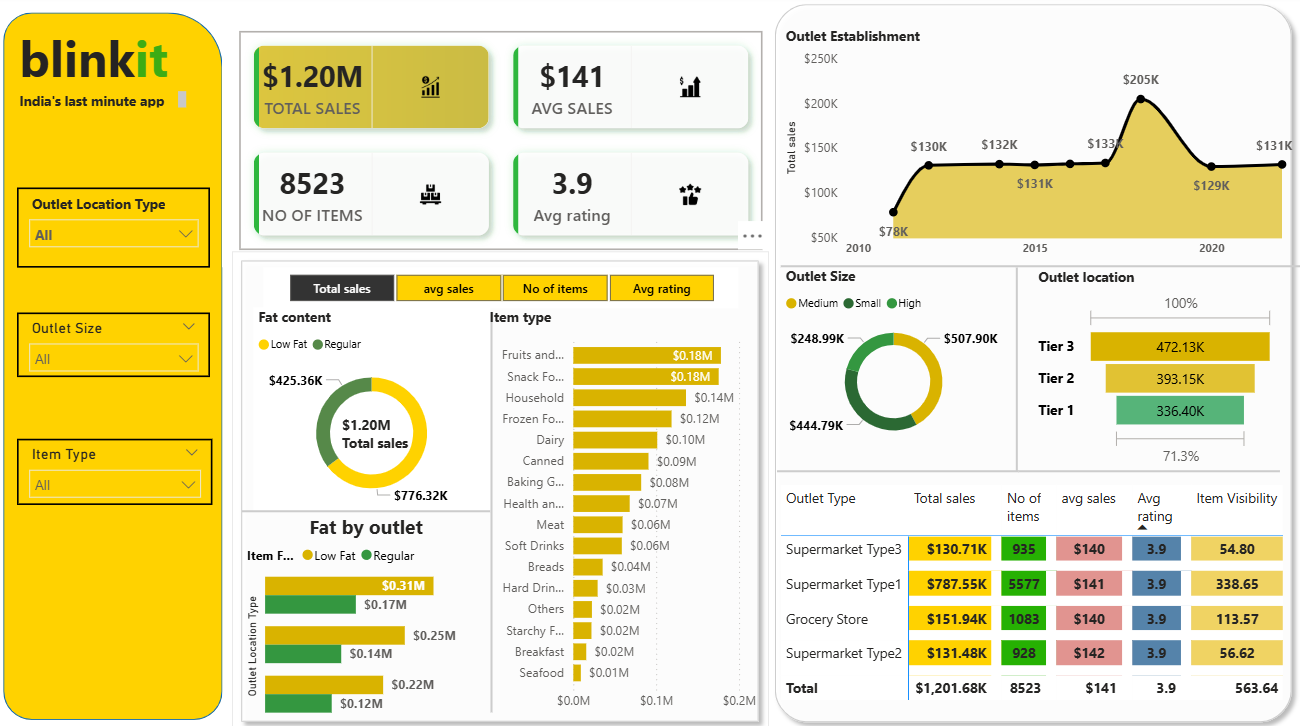

The dashboard page shown, as its layout file describes it:
{"tool":"powerbi","page":{"name":"Page 1","canvas":[1280,720],"ordinal":0},"visuals":[{"type":"shape","box":[10.8,17.5,214.5,692.1],"z":0},{"type":"textbox","box":[22,23.3,164.7,78.2],"z":1000},{"type":"textbox","box":[22,89.2,172.9,26.1],"z":2000},{"type":"cardVisual","fields":{"Data":["BlinkIT Grocery Data.Total sales","BlinkIT Grocery Data.avg sales","BlinkIT Grocery Data.No of items","BlinkIT Grocery Data.Avg rating"]},"box":[225,17.8,546.1,248.4],"z":3000},{"type":"shape","box":[234.6,251.1,524.2,469.3],"z":4000},{"type":"donutChart","title":"Fat content","fields":{"Y":["BlinkIT Grocery Data.Total sales"],"Category":["BlinkIT Grocery Data.Item Fat Content"]},"box":[255.2,306,231.9,200.3],"z":5000},{"type":"slicer","fields":{"Values":["Metrics.Metrics"]},"box":[264.8,266.2,465.2,39.8],"z":6000},{"type":"textbox","box":[337.3,406.1,87.7,49.9],"z":7000},{"type":"clusteredBarChart","title":"Fat by outlet","fields":{"Y":["BlinkIT Grocery Data.Total sales"],"Category":["BlinkIT Grocery Data.Outlet Location Type"],"Series":["BlinkIT Grocery Data.Item Fat Content"]},"box":[244.2,507.3,242.8,202.4],"z":8000},{"type":"shape","box":[244.2,485.7,242.8,39.1],"z":9000},{"type":"shape","box":[480.3,310.3,16.2,391.2],"z":10000},{"type":"barChart","title":"Item type","fields":{"Y":["BlinkIT Grocery Data.Total sales"],"Category":["BlinkIT Grocery Data.Item Type"]},"box":[487,306.2,284.7,403.4],"z":11000},{"type":"shape","box":[756.8,0,523.4,720.4],"z":12000},{"type":"lineChart","title":"Outlet Establishment","fields":{"Y":["BlinkIT Grocery Data.Total sales"],"Category":["BlinkIT Grocery Data.Outlet Establishment Year"]},"box":[771.7,31,508.6,234.7],"z":13000},{"type":"shape","box":[771.7,245.5,508.6,39.1],"z":14000},{"type":"donutChart","title":"Outlet Size","fields":{"Category":["BlinkIT Grocery Data.Outlet Size"],"Y":["BlinkIT Grocery Data.Total sales"]},"box":[771.7,265.8,221.2,180.8],"z":15000},{"type":"shape","box":[767.6,446.5,236.1,39.1],"z":16000},{"type":"shape","box":[978.1,267.1,48.6,199.7],"z":17000},{"type":"funnel","title":"Outlet location","fields":{"Category":["BlinkIT Grocery Data.Outlet Location Type"],"Y":["Sum(BlinkIT Grocery Data.Sales)"]},"box":[1018.6,267.1,241.5,199.7],"z":18000},{"type":"pivotTable","fields":{"Rows":["BlinkIT Grocery Data.Outlet Type"],"Values":["BlinkIT Grocery Data.Total sales","BlinkIT Grocery Data.No of items","BlinkIT Grocery Data.avg sales","BlinkIT Grocery Data.Avg rating","Sum(BlinkIT Grocery Data.Item Visibility)"]},"box":[766.3,474.9,514,245.5],"z":19000},{"type":"shape","box":[1003.7,446.5,256.3,39.1],"z":20000},{"type":"slicer","fields":{"Values":["BlinkIT Grocery Data.Outlet Location Type"]},"box":[24.3,188.9,188.9,78.2],"z":21000},{"type":"slicer","fields":{"Values":["BlinkIT Grocery Data.Outlet Size"]},"box":[24.3,310.3,188.9,63.4],"z":21001},{"type":"slicer","fields":{"Values":["BlinkIT Grocery Data.Item Type"]},"box":[24.3,434.4,191.6,64.8],"z":21002}]}

Visuals, with their boxes in screenshot pixels (x1, y1, x2, y2), scaled from the page's 1280x720 canvas onto the 1300x726 screenshot:
shape: left=11, top=18, right=229, bottom=716
textbox: left=22, top=23, right=190, bottom=102
textbox: left=22, top=90, right=198, bottom=116
cardVisual - BlinkIT Grocery Data.Total sales x BlinkIT Grocery Data.avg sales: left=229, top=18, right=783, bottom=268
shape: left=238, top=253, right=771, bottom=725
"Fat content" donutChart: left=259, top=309, right=495, bottom=511
slicer - Metrics.Metrics: left=269, top=268, right=741, bottom=309
textbox: left=343, top=409, right=432, bottom=460
"Fat by outlet" clusteredBarChart: left=248, top=512, right=495, bottom=716
shape: left=248, top=490, right=495, bottom=529
shape: left=488, top=313, right=504, bottom=707
"Item type" barChart: left=495, top=309, right=784, bottom=716
shape: left=769, top=0, right=1299, bottom=725
"Outlet Establishment" lineChart: left=784, top=31, right=1299, bottom=268
shape: left=784, top=248, right=1299, bottom=287
"Outlet Size" donutChart: left=784, top=268, right=1008, bottom=450
shape: left=780, top=450, right=1019, bottom=490
shape: left=993, top=269, right=1043, bottom=471
"Outlet location" funnel: left=1035, top=269, right=1280, bottom=471
pivotTable - BlinkIT Grocery Data.Outlet Type x BlinkIT Grocery Data.Total sales: left=778, top=479, right=1299, bottom=725
shape: left=1019, top=450, right=1280, bottom=490
slicer - BlinkIT Grocery Data.Outlet Location Type: left=25, top=190, right=217, bottom=269
slicer - BlinkIT Grocery Data.Outlet Size: left=25, top=313, right=217, bottom=377
slicer - BlinkIT Grocery Data.Item Type: left=25, top=438, right=219, bottom=503
